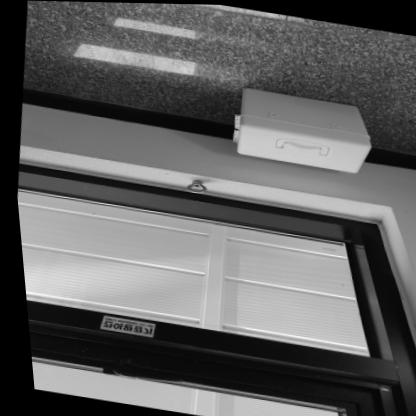DDL: (223, 84, 374, 175)
